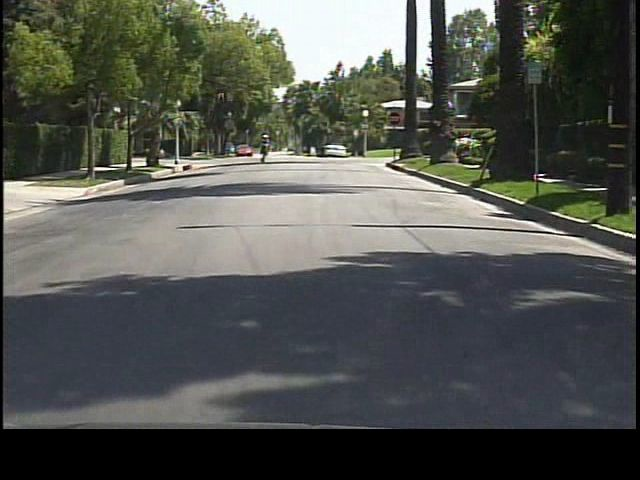person: (257, 135, 272, 166)
